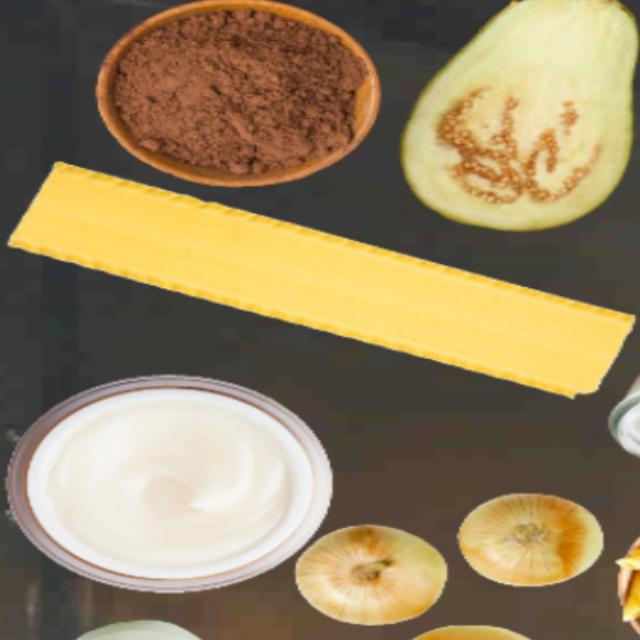Cocoa: (111, 3, 366, 177)
